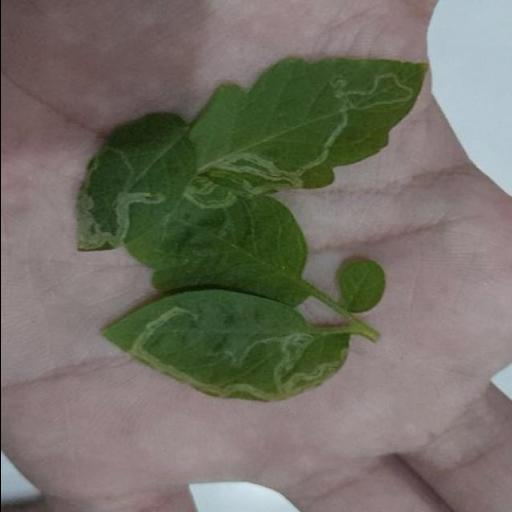Leaf Miner: (190, 56, 430, 198), (100, 291, 348, 401), (74, 110, 196, 254)
